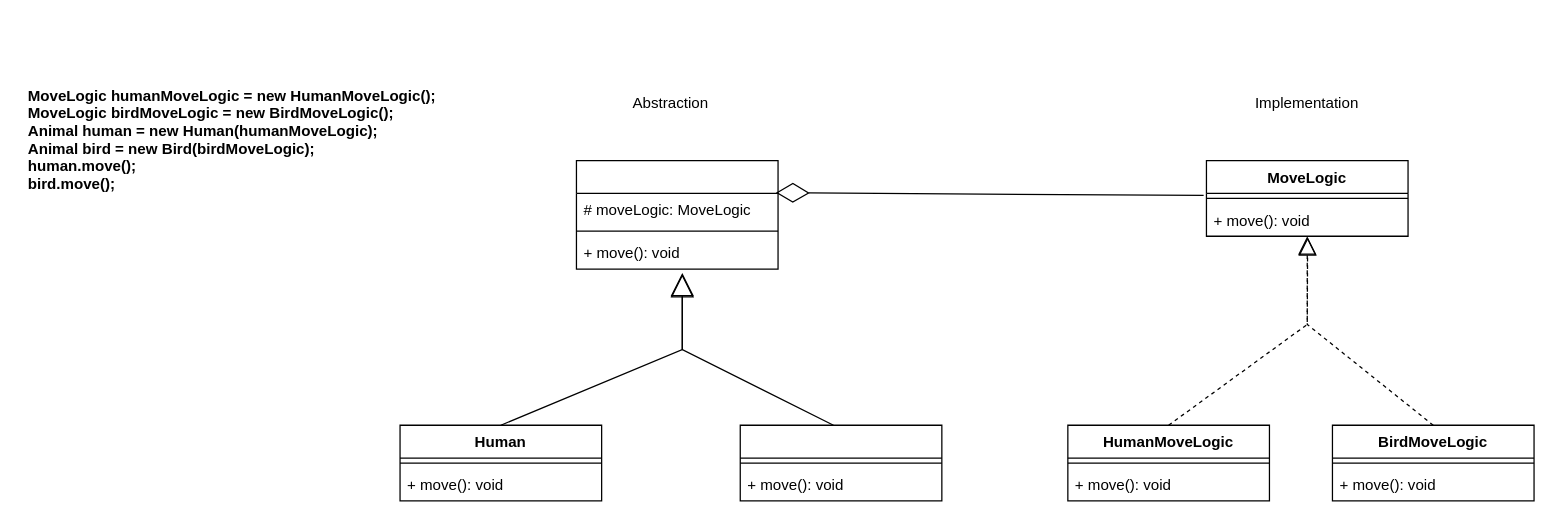
Some shapes in this 1556 by 525 pixel diagram are drawn without their labels. Each missing label, with the box of its shape:
Animal: (575, 159, 778, 269)
Bird: (739, 424, 942, 501)
